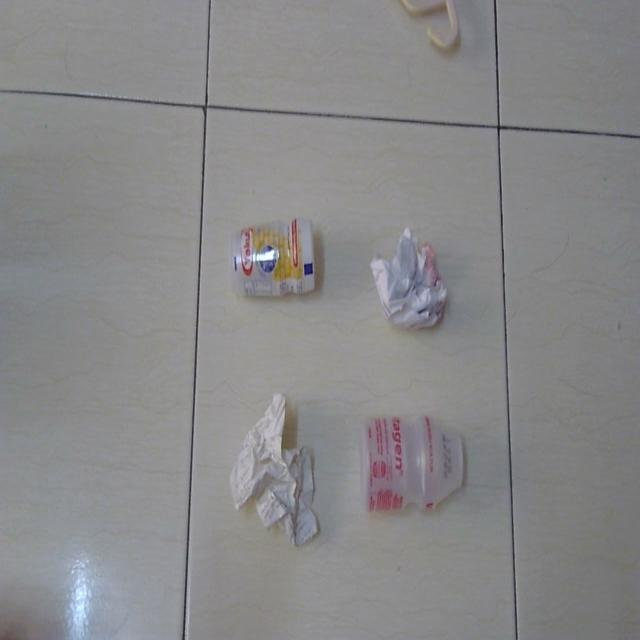paperrotation: (225, 390, 331, 558), (367, 213, 451, 345)
plastic_laydown_0rotation: (356, 402, 479, 530), (220, 213, 322, 297)
